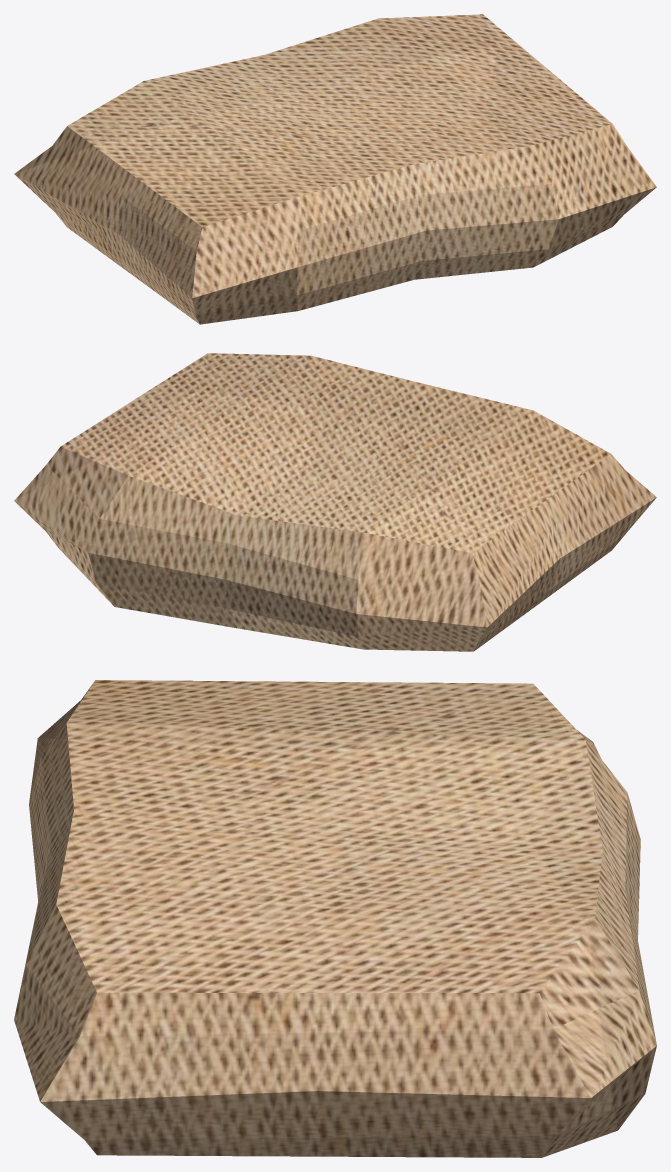
The model's file is saco de arena.fbx.
The picture shows the model from 3 angles, top to bottom: view 1: azimuth 30°, elevation 25°; view 2: azimuth 150°, elevation 25°; view 3: azimuth 270°, elevation 25°; orthographic projection. The views are drawn at different scales.
Visible parts, largest first — view 1: Cube; view 2: Cube; view 3: Cube.
Boxes of the visible parts, box(x1,y1,x2,y2) form: Cube: box(14, 14, 656, 324); Cube: box(14, 353, 656, 651); Cube: box(14, 680, 656, 1157).
Size of the model in its own units: 156 by 42.12 by 114.
1 material, 1 textured.
